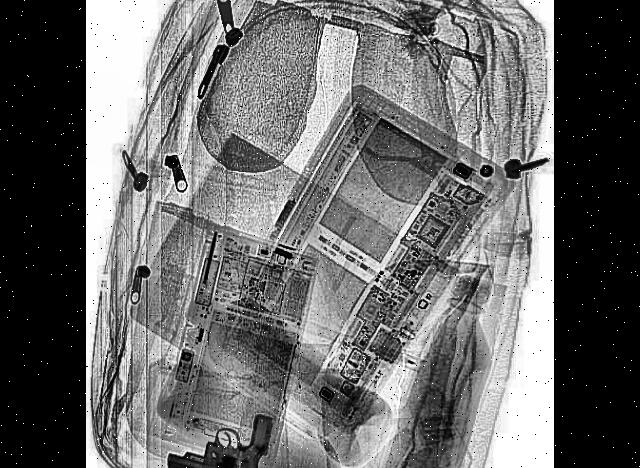Gun: (166, 395, 273, 468)
